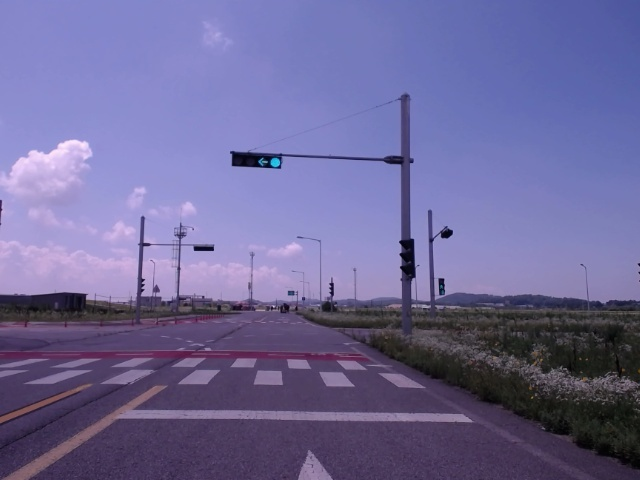all_green_4: (229, 151, 282, 170)
